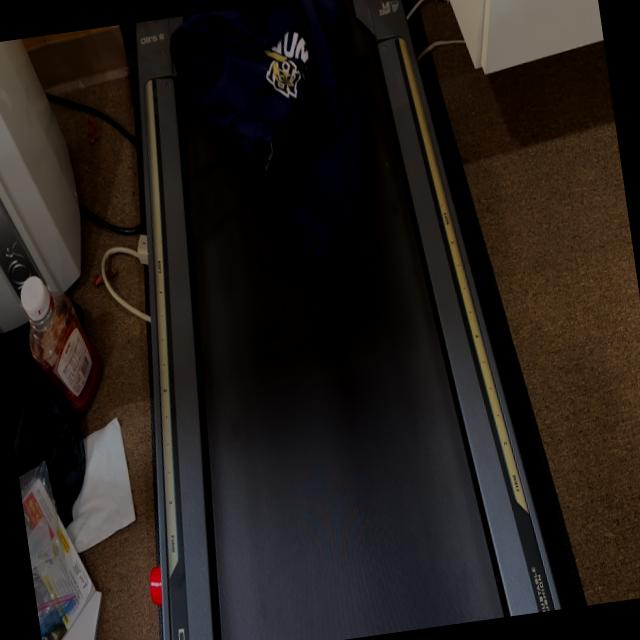Trash: (166, 0, 394, 281)
